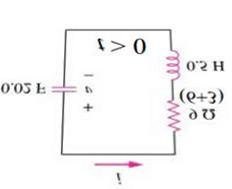inductor: (161, 43, 185, 86)
